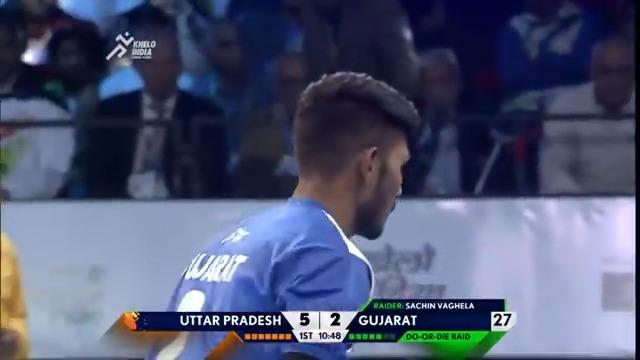Raider: (141, 69, 422, 357)
